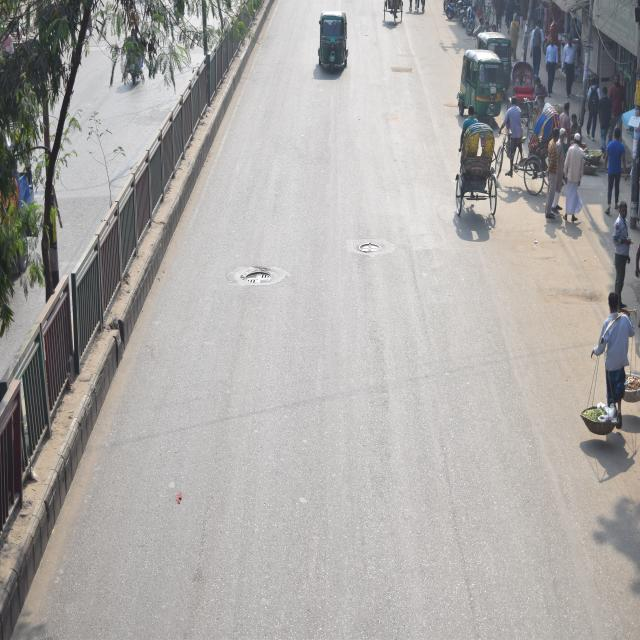motorbike: (456, 0, 478, 36)
